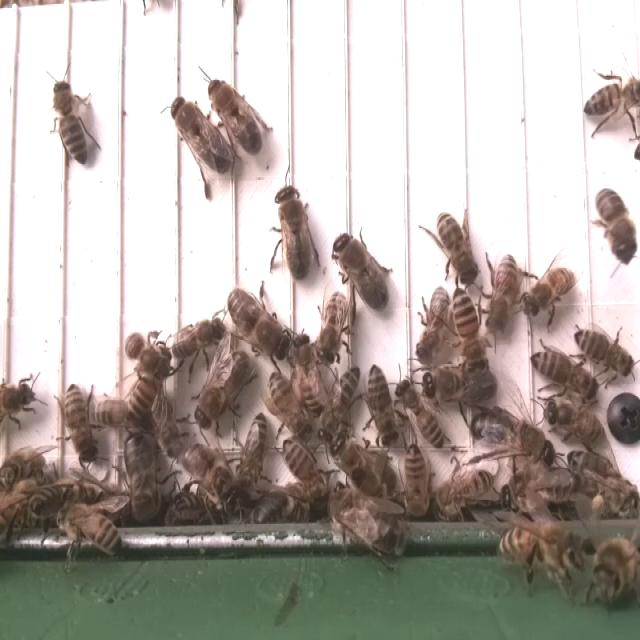Drone: (467, 402, 558, 471), (225, 281, 294, 364), (168, 92, 233, 180), (207, 72, 270, 156), (330, 228, 391, 314), (194, 347, 250, 431), (273, 180, 313, 285), (121, 427, 159, 527), (421, 364, 499, 409)
Worker: (393, 373, 446, 452), (526, 348, 602, 397), (544, 398, 610, 454), (51, 72, 89, 168), (62, 376, 101, 469), (446, 285, 490, 367), (482, 248, 522, 336), (434, 204, 477, 281), (570, 326, 636, 376), (578, 70, 640, 123), (234, 406, 272, 492), (520, 260, 578, 315), (364, 356, 396, 452), (172, 310, 228, 362), (415, 284, 449, 364)
